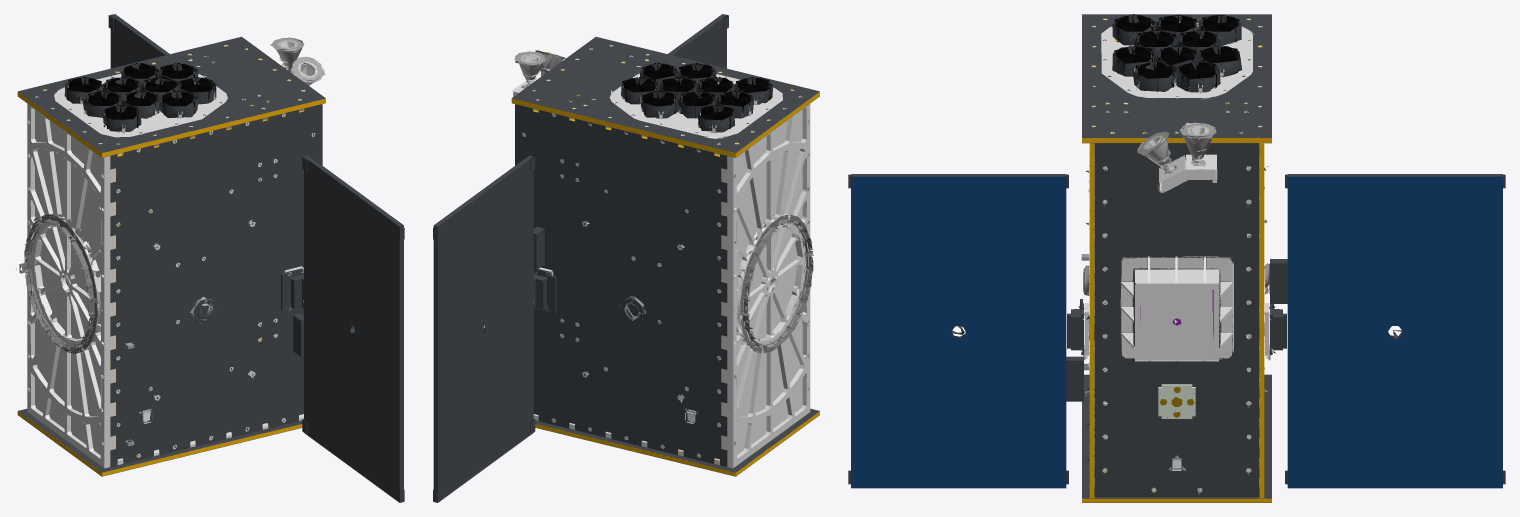
File: module.glb
3 views of the same model, side by side, from view 1: azimuth 30°, elevation 25°; view 2: azimuth 150°, elevation 25°; view 3: azimuth 270°, elevation 25° (orthographic). The views are drawn at different scales.
Visible parts, largest first — view 1: Part 121; view 2: Part 121; view 3: Part 121.
Boxes of the visible parts, x1=… form: Part 121: x1=16, y1=14, x2=404, y2=502; Part 121: x1=433, y1=14, x2=819, y2=502; Part 121: x1=848, y1=14, x2=1505, y2=502.
Bounding box in the file's own units: 0.9094 × 1.13 × 1.74.
